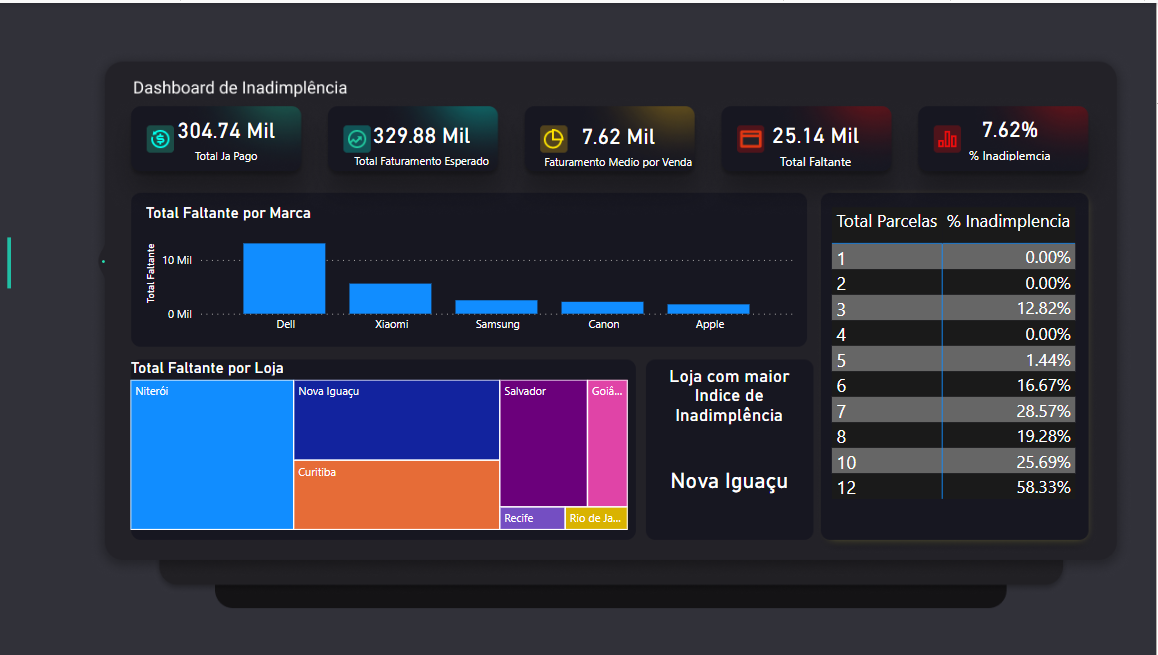

The page's visual inventory and layout, read from the dashboard file:
{"tool":"powerbi","page":{"name":"Página 1","canvas":[1280,720],"ordinal":0},"visuals":[{"type":"card","fields":{"Values":["Base Vendas Parceladas.Faturamento Medio por Venda"]},"box":[581.6,113.8,215.9,79.8],"z":0},{"type":"card","fields":{"Values":["Base Vendas Parceladas.Total Faturamento Esperado"]},"box":[378.4,112.8,190.6,80.7],"z":1000},{"type":"card","fields":{"Values":["Base Vendas Parceladas.Total Ja Pago"]},"box":[149.8,100.2,219.8,93.4],"z":2000},{"type":"card","fields":{"Values":["Base Vendas Parceladas.% Inadimplencia"]},"box":[1043.6,115.7,150.8,62.2],"z":3000},{"type":"pivotTable","fields":{"Values":["Base Vendas Parceladas.% Inadimplencia"],"Rows":["Base Vendas Parceladas.Total Parcelas"]},"box":[919.1,219.8,287.9,375.4],"z":4000},{"type":"card","fields":{"Values":["Base Vendas Parceladas.Total Faltante"]},"box":[829.7,120.6,152.7,65.2],"z":5000},{"type":"columnChart","fields":{"Y":["Medidas.Total Faltante"],"Category":["Base Vendas Parceladas.Marca"]},"box":[166.3,219.8,722.7,151.7],"z":6000},{"type":"treemap","fields":{"Group":["Base Vendas Parceladas.Loja"],"Values":["Medidas.Total Faltante"]},"box":[149.8,390,555.4,193.6],"z":7000},{"type":"card","title":"Loja com maior Indice de Inadimplência","fields":{"Values":["Min(Base Vendas Parceladas.Loja)"]},"box":[715.9,397.8,190.6,185.8],"z":9000},{"type":"actionButton","box":[49.6,268.4,32.1,27.2],"z":9001}]}

Visuals, with their boxes in screenshot pixels (x1, y1, x2, y2), scaled from the page's 1280x720 canvas onto the 1158x655 screenshot:
card - Base Vendas Parceladas.Faturamento Medio por Venda: bbox=[526, 104, 721, 176]
card - Base Vendas Parceladas.Total Faturamento Esperado: bbox=[342, 103, 515, 176]
card - Base Vendas Parceladas.Total Ja Pago: bbox=[136, 91, 334, 176]
card - Base Vendas Parceladas.% Inadimplencia: bbox=[944, 105, 1081, 162]
pivotTable - Base Vendas Parceladas.% Inadimplencia x Base Vendas Parceladas.Total Parcelas: bbox=[831, 200, 1092, 541]
card - Base Vendas Parceladas.Total Faltante: bbox=[751, 110, 889, 169]
columnChart - Medidas.Total Faltante x Base Vendas Parceladas.Marca: bbox=[150, 200, 804, 338]
treemap - Base Vendas Parceladas.Loja x Medidas.Total Faltante: bbox=[136, 355, 638, 531]
"Loja com maior Indice de Inadimplência" card: bbox=[648, 362, 820, 531]
actionButton: bbox=[45, 244, 74, 269]
